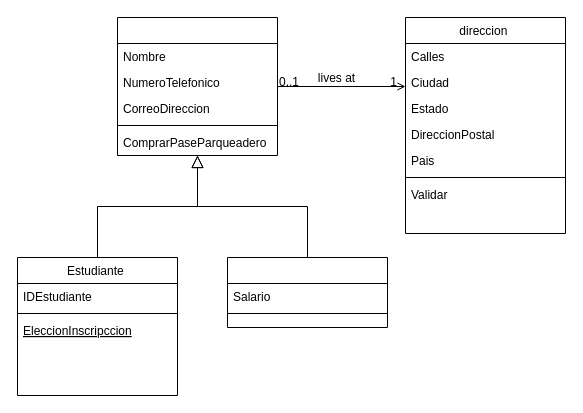
The diagram is 583 pixels wide and 413 high, and some of its shapes have lost their labels. Here are the shapes that lost their labels. From the top down, the box of each, then its label:
(116, 16, 278, 156): Persona
(226, 256, 388, 328): Profesor
